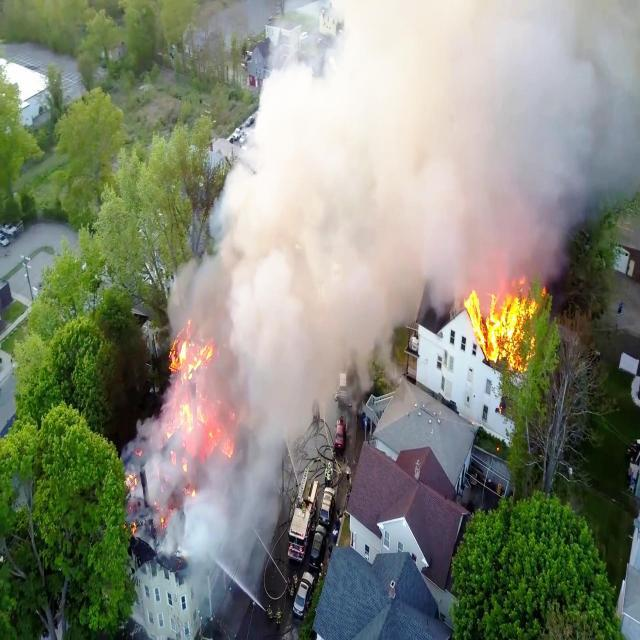Fire: (115, 388, 242, 537), (468, 285, 532, 363), (171, 316, 213, 386)
Smoke: (218, 0, 639, 284), (214, 286, 413, 386), (244, 390, 330, 537)
